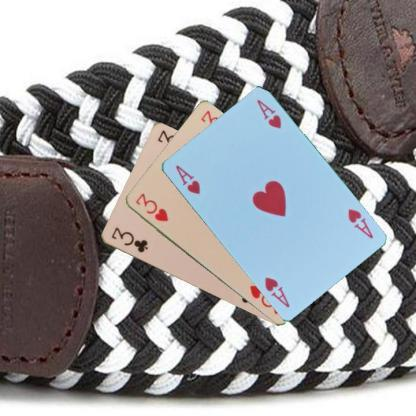3c: (108, 225, 149, 254)
3h: (132, 190, 170, 223)
Ah: (344, 206, 374, 240), (172, 162, 201, 196)
